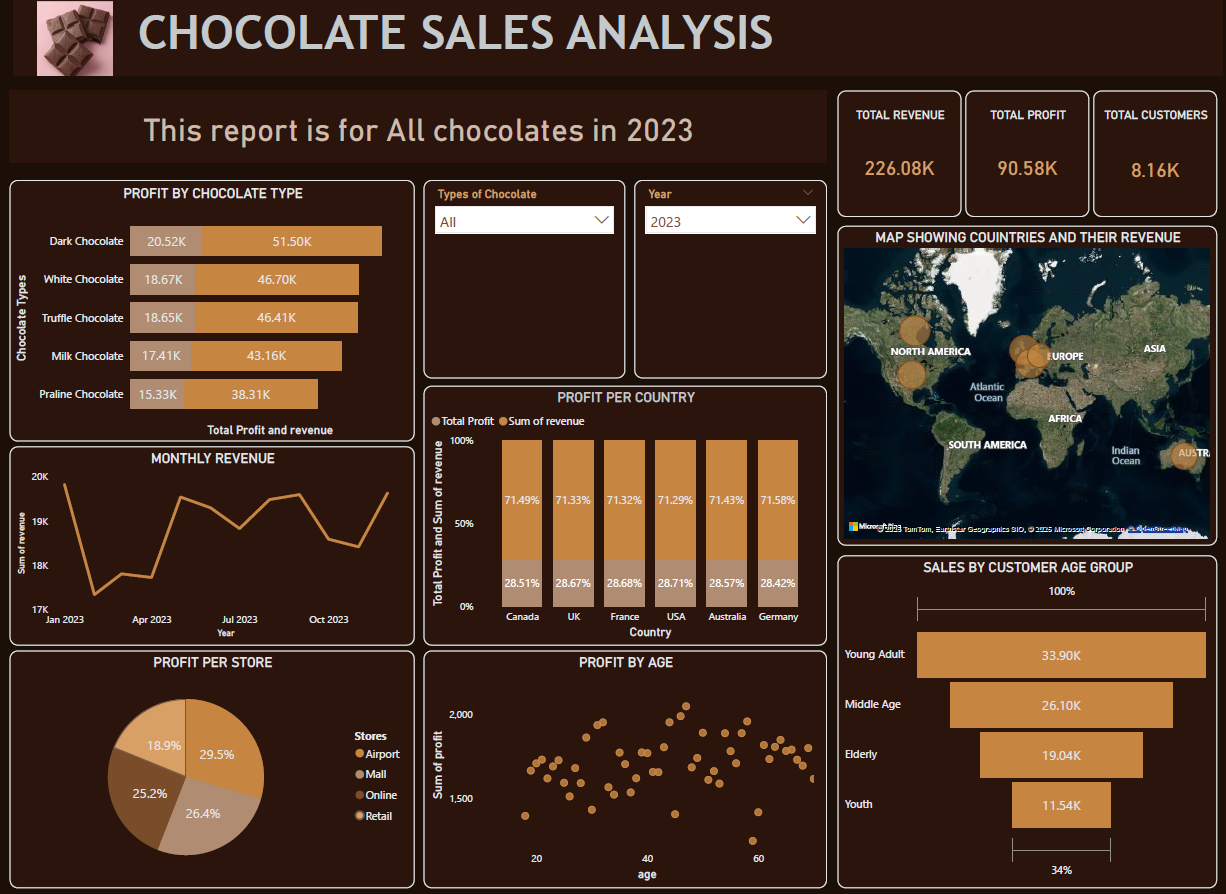

Layout of this report page (visuals, bound fields, positions):
{"tool":"powerbi","page":{"name":"Page 1","canvas":[1500,1100],"ordinal":0},"visuals":[{"type":"barChart","title":"PROFIT BY CHOCOLATE TYPE","fields":{"Category":["worksheet.chocolate_types"],"Y":["Sum(worksheet.profit)","Sum(worksheet.revenue)"]},"box":[11.3,220.3,493.7,318.4],"z":0},{"type":"card","title":"TOTAL CUSTOMERS","fields":{"Values":["Count(worksheet.customer_id)"]},"box":[1333.1,111,151.2,154.4],"z":1000},{"type":"card","title":"TOTAL PROFIT","fields":{"Values":["Sum(worksheet.profit)"]},"box":[1177.1,111,151.2,154.4],"z":2000},{"type":"lineChart","title":"MONTHLY REVENUE","fields":{"Y":["Sum(worksheet.revenue)"],"Category":["worksheet.order_date.Variation.Date Hierarchy.Year","worksheet.order_date.Variation.Date Hierarchy.Quarter","worksheet.order_date.Variation.Date Hierarchy.Month"]},"box":[11.3,545.1,493.7,242.8],"z":3000},{"type":"hundredPercentStackedColumnChart","title":"PROFIT PER COUNTRY","fields":{"Y":["Sum(worksheet.profit)","Sum(worksheet.revenue)"],"Category":["worksheet.country"]},"box":[516.2,471.2,492.1,316.8],"z":4000},{"type":"map","title":"MAP SHOWING COUINTRIES AND THEIR REVENUE","fields":{"Category":["worksheet.country"],"Size":["Sum(worksheet.revenue)"]},"box":[1020.6,275.9,463.3,390],"z":5000},{"type":"scatterChart","title":"PROFIT BY AGE","fields":{"X":["worksheet.age"],"Y":["Sum(worksheet.profit)"]},"box":[516.2,794.4,492.1,289.5],"z":6000},{"type":"funnel","title":"SALES BY CUSTOMER AGE GROUP","fields":{"Category":["worksheet.age_group"],"Y":["Sum(worksheet.profit)"]},"box":[1020.6,677.6,463.3,406.7],"z":7000},{"type":"pieChart","title":"PROFIT PER STORE","fields":{"Y":["Sum(worksheet.profit)"],"Category":["worksheet.store_type"]},"box":[11.3,794.4,493.7,289.5],"z":8000},{"type":"slicer","title":"REVENUE AND PROFIT BY CHOCOLATE TYPE","fields":{"Values":["worksheet.chocolate_types"]},"box":[516.2,220.3,246,241.2],"z":9000},{"type":"textbox","box":[16.1,0,1474.6,93.3],"z":10000},{"type":"card","title":"TOTAL REVENUE","fields":{"Values":["Sum(worksheet.revenue)"]},"box":[1021.1,111,151.2,154.4],"z":11000},{"type":"slicer","title":"REVENUE AND PROFIT BY CHOCOLATE TYPE","fields":{"Values":["worksheet.order_date.Variation.Date Hierarchy.Year"]},"box":[773.5,220.3,234.8,241.2],"z":12000},{"type":"card","fields":{"Values":["worksheet.InteractiveTitle"]},"box":[11.3,111,997,88.4],"z":13000},{"type":"image","box":[16.1,1.6,147.9,91.7],"z":14000}]}

Visuals, with their boxes in screenshot pixels (x1, y1, x2, y2), scaled from the page's 1500x1100 canvas onto the 1226x894 screenshot:
"PROFIT BY CHOCOLATE TYPE" barChart: (9,179,413,438)
"TOTAL CUSTOMERS" card: (1090,90,1213,216)
"TOTAL PROFIT" card: (962,90,1086,216)
"MONTHLY REVENUE" lineChart: (9,443,413,640)
"PROFIT PER COUNTRY" hundredPercentStackedColumnChart: (422,383,824,640)
"MAP SHOWING COUINTRIES AND THEIR REVENUE" map: (834,224,1213,541)
"PROFIT BY AGE" scatterChart: (422,646,824,881)
"SALES BY CUSTOMER AGE GROUP" funnel: (834,551,1213,881)
"PROFIT PER STORE" pieChart: (9,646,413,881)
"REVENUE AND PROFIT BY CHOCOLATE TYPE" slicer: (422,179,623,375)
textbox: (13,0,1218,76)
"TOTAL REVENUE" card: (835,90,958,216)
"REVENUE AND PROFIT BY CHOCOLATE TYPE" slicer: (632,179,824,375)
card - worksheet.InteractiveTitle: (9,90,824,162)
image: (13,1,134,76)
